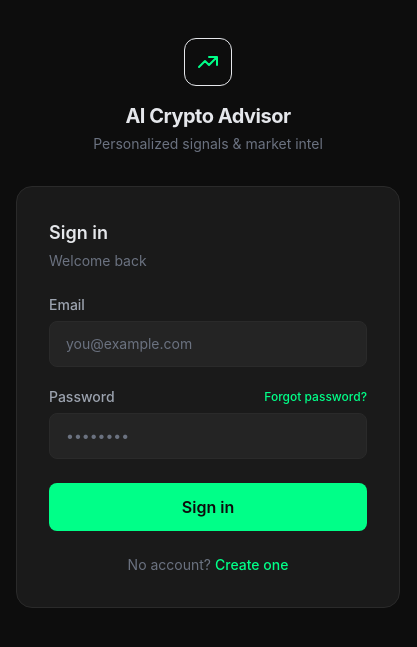
Test: shows error when fields are empty
The width and height of the screenshot is (417, 647).
Click the button "Sign in".
click(208, 507)  # box [49,483,367,531]
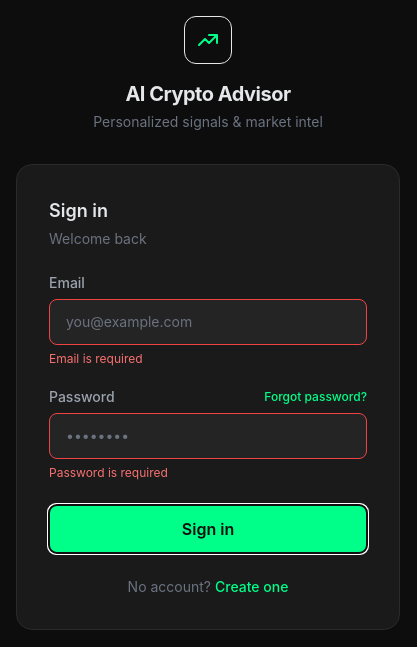
Expected: the text "Email is required" is shown, [49,351,143,366]
